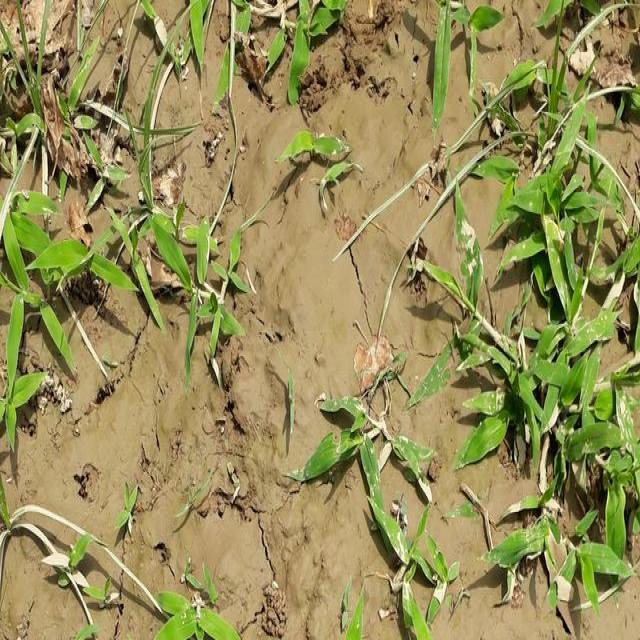weed: (442, 55, 640, 592), (0, 152, 231, 365), (312, 384, 453, 640), (253, 0, 329, 117)
